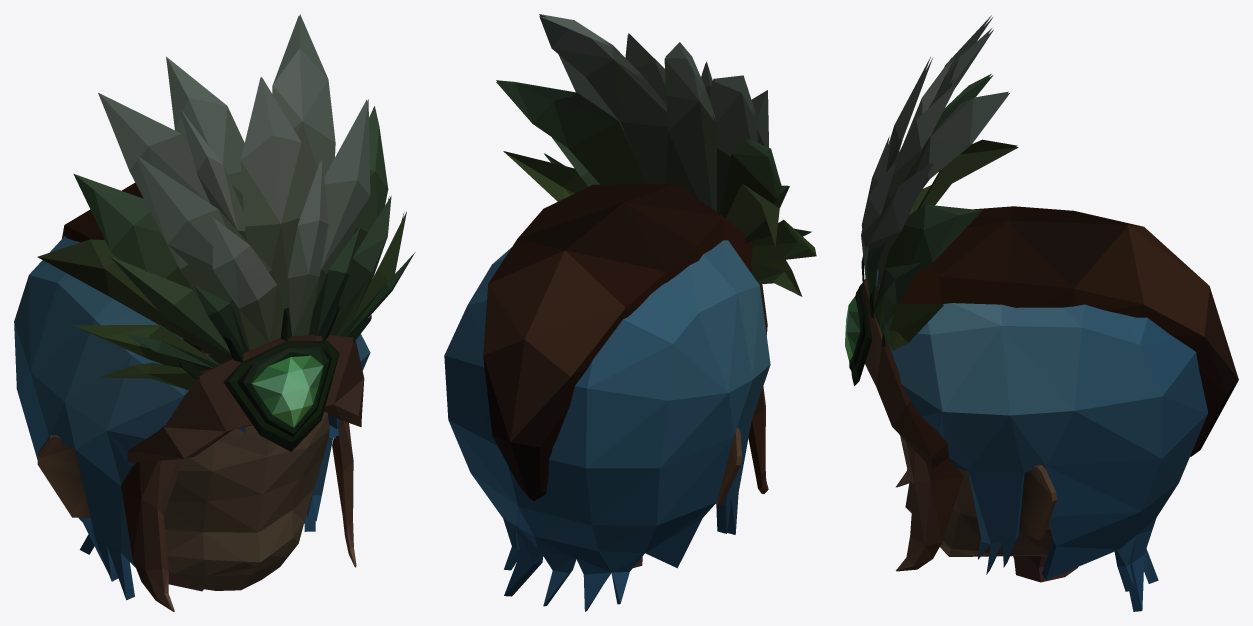
The model's file is helm_darkskin_standard_blue_headress.fbx.
3 views of the same model, side by side, from view 1: azimuth 30°, elevation 25°; view 2: azimuth 150°, elevation 25°; view 3: azimuth 270°, elevation 25° (orthographic). The views are drawn at different scales.
Parts seen in each view (by area): view 1: helm_darkskin_standard_blue_headress; view 2: helm_darkskin_standard_blue_headress; view 3: helm_darkskin_standard_blue_headress.
Part boxes in pixels (left/top/right/bottom): helm_darkskin_standard_blue_headress: left=14, top=14, right=415, bottom=611; helm_darkskin_standard_blue_headress: left=444, top=14, right=816, bottom=611; helm_darkskin_standard_blue_headress: left=845, top=15, right=1238, bottom=611.
Bounding box in the file's own units: 1.29 × 2.09 × 1.39.
